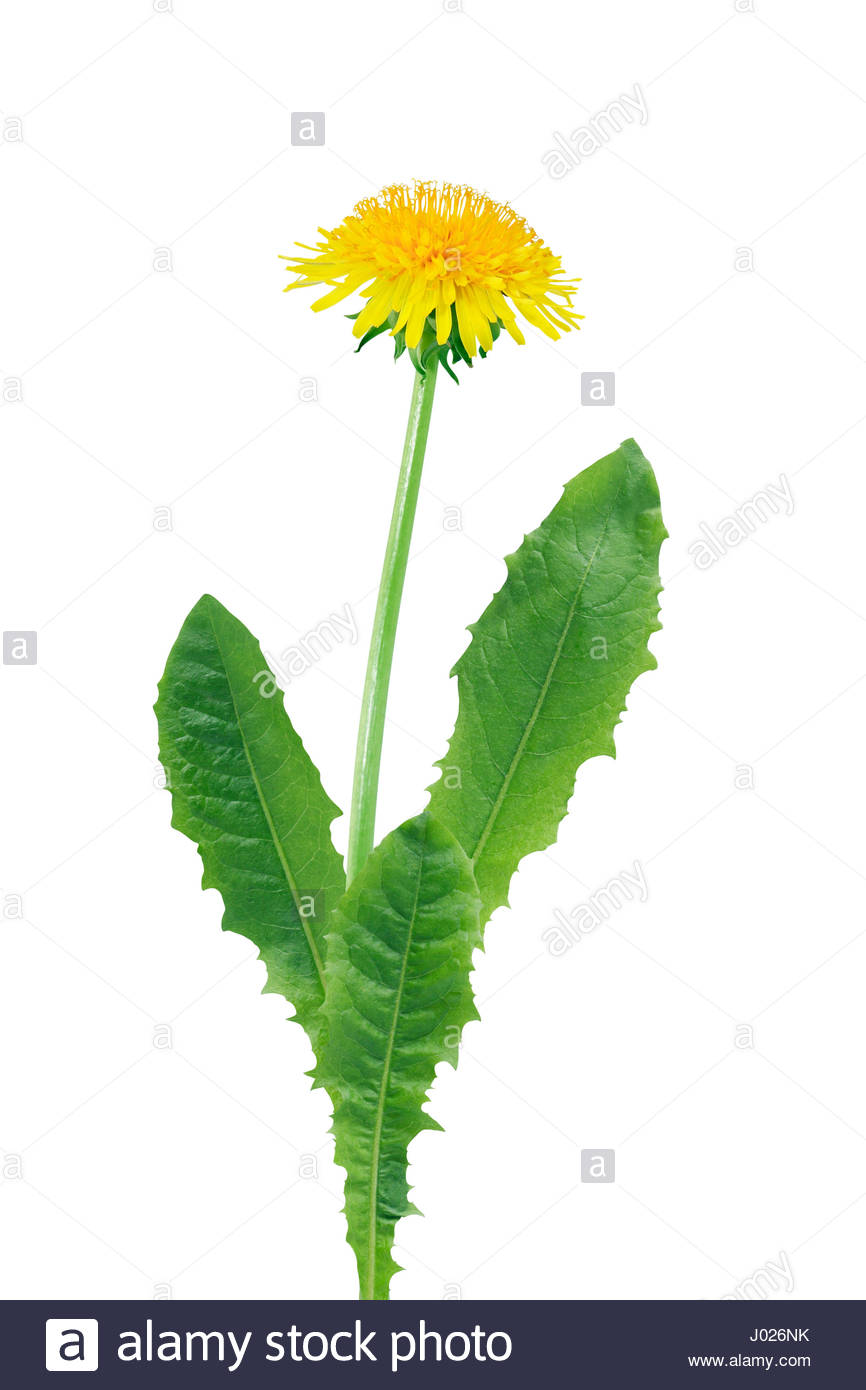dandelion: (283, 102, 588, 371)
